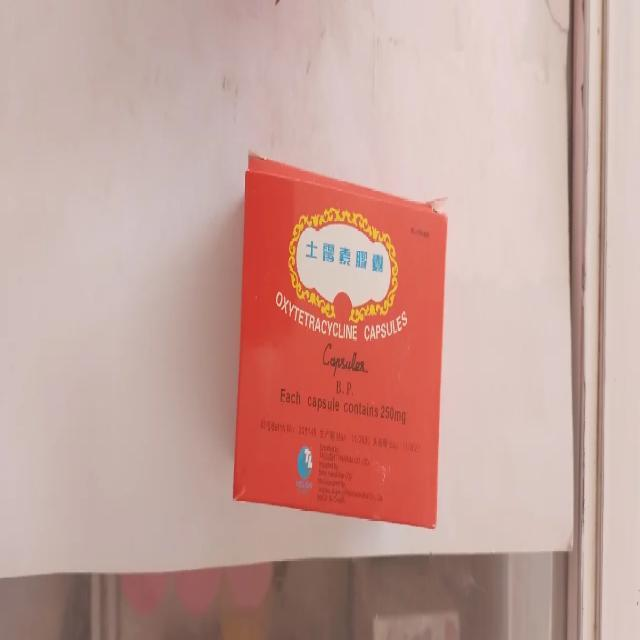drug-name: (270, 283, 360, 354)
